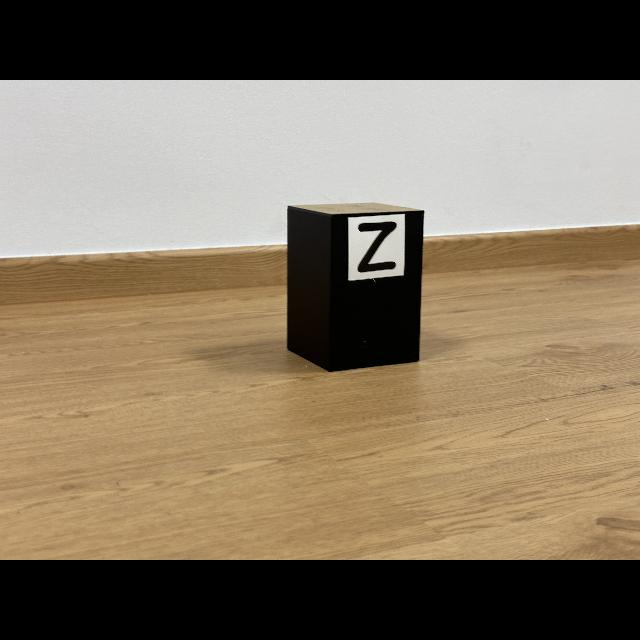Z: (358, 221, 396, 272)
